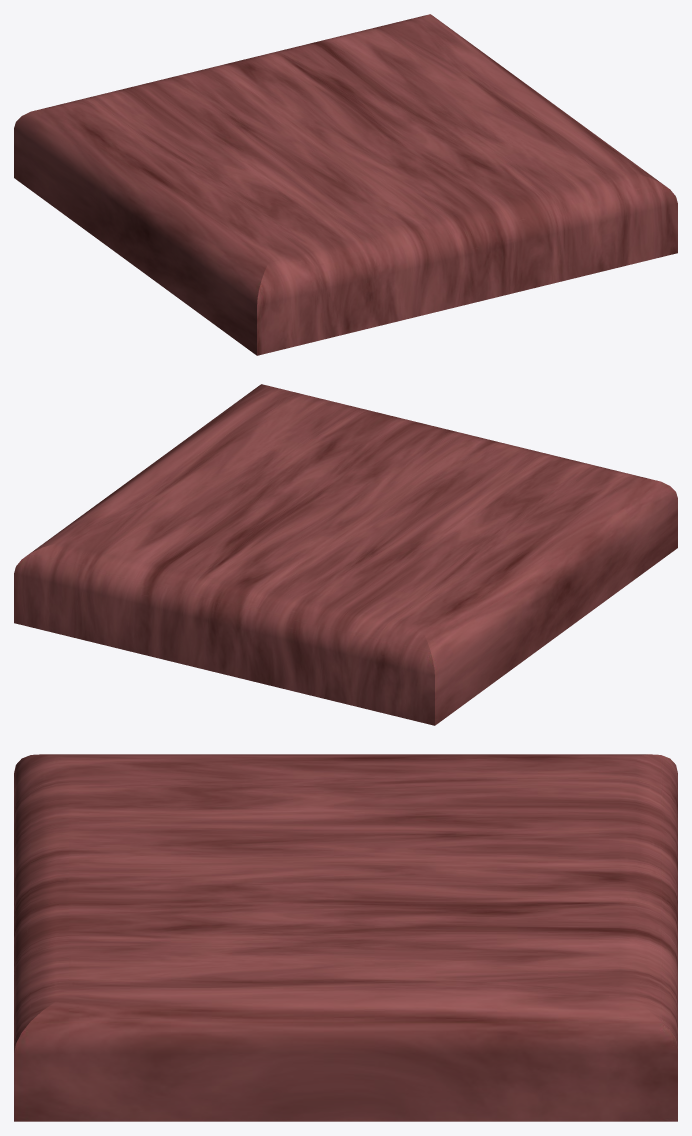
File: red_tile.gltf
3 views of the same model, one above another, from view 1: azimuth 30°, elevation 25°; view 2: azimuth 150°, elevation 25°; view 3: azimuth 270°, elevation 25° (orthographic). The views are drawn at different scales.
Visible parts, largest first — view 1: tileX3; view 2: tileX3; view 3: tileX3.
Boxes of the visible parts, x1,y1,x2,y2 form: tileX3: (14, 14, 677, 355); tileX3: (14, 384, 677, 725); tileX3: (14, 754, 677, 1121).
Size of the model in its own units: 2.9 by 0.5 by 2.9.
Materials: 1 (1 with a texture image).
